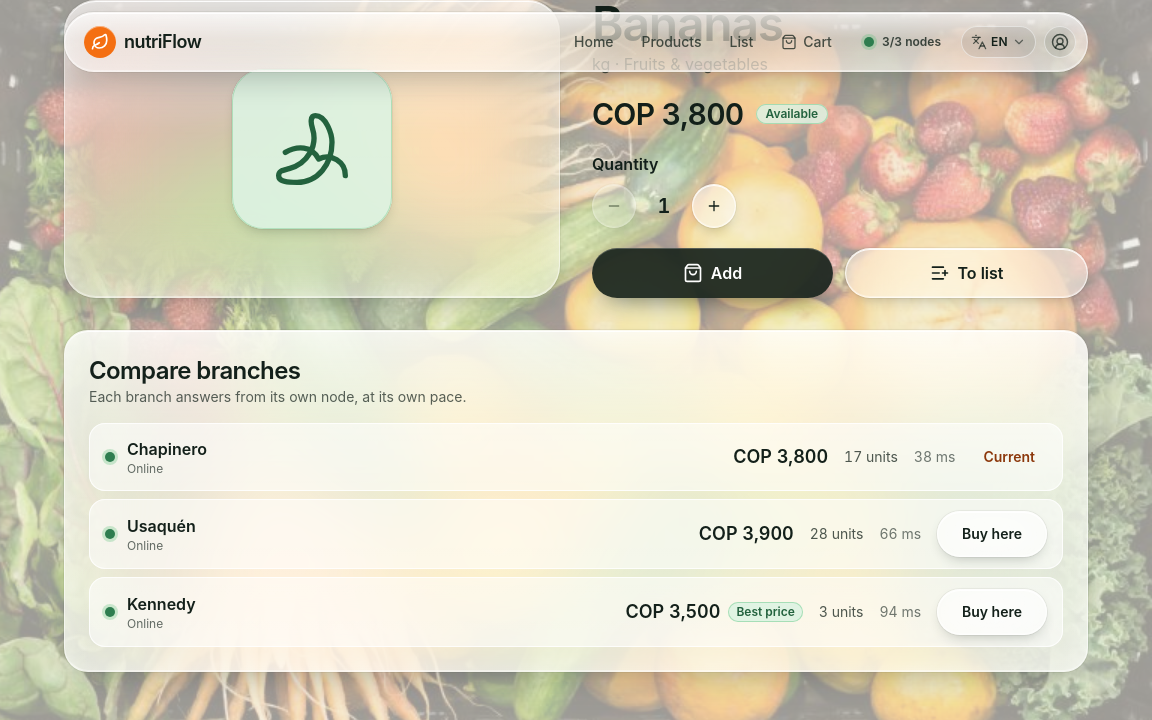
Test: Browsing › compares every branch and switches to the cheapest
(page scrolled)
expect the text "38 ms" is shown 3 times: met, box [914,447,955,467]; [880,524,921,544]; [880,602,921,622]
expect the text "Best price" is shown: met, box [728,602,803,622]
Click the button named "Buy at Kennedy" at (992, 612), box [937,589,1047,635]
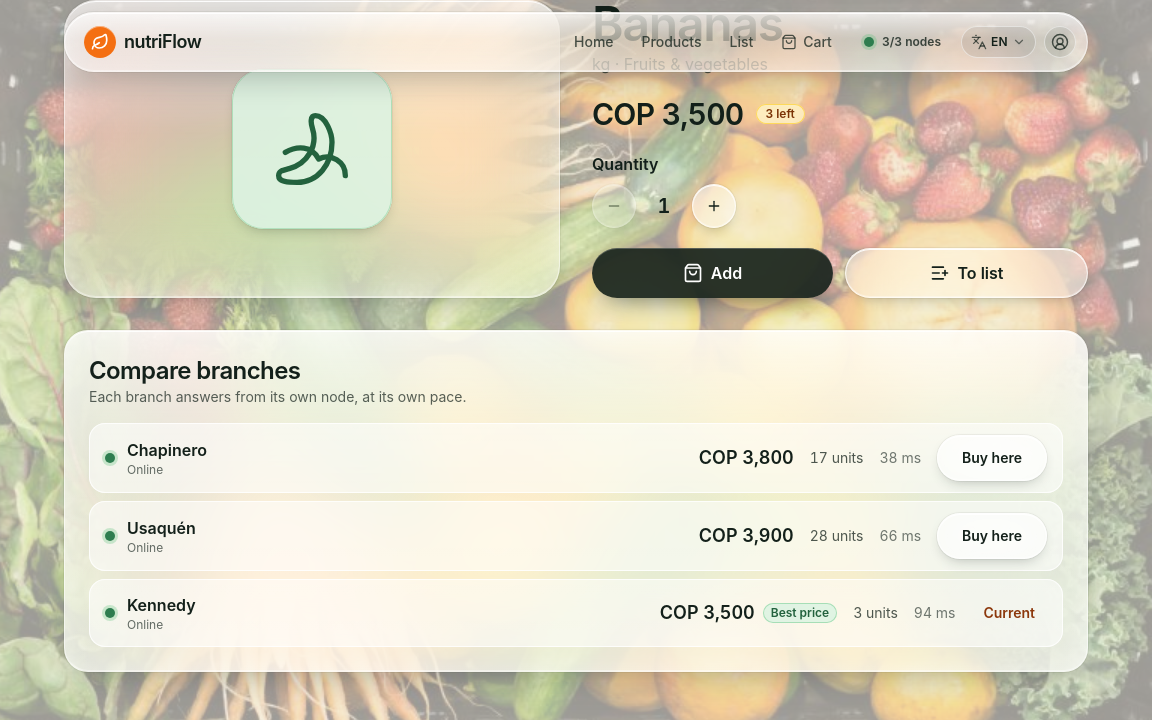
expect the text "COP 3,500" next to "3 left" is shown: met, box [592,96,744,132]
